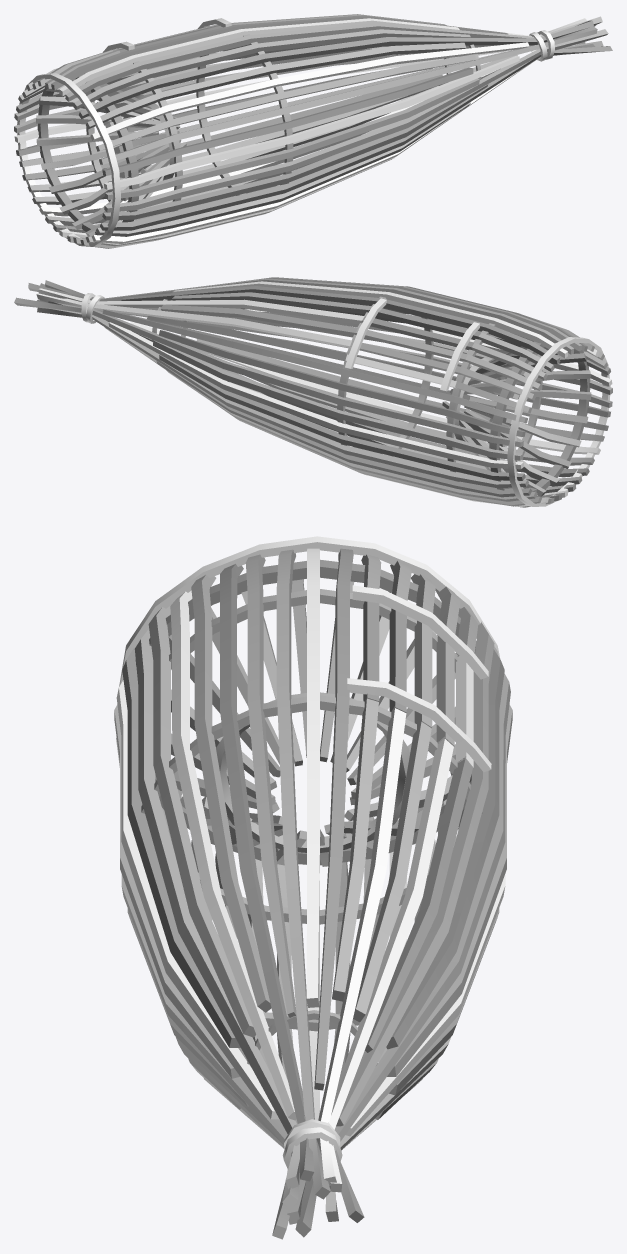
File: PT_Trap_04.fbx
The picture shows the model from 3 angles, top to bottom: view 1: azimuth 30°, elevation 25°; view 2: azimuth 150°, elevation 25°; view 3: azimuth 270°, elevation 25°; orthographic projection. The views are drawn at different scales.
Visible parts, largest first — view 1: PT_Trap_04_body, PT_Trap_04_door; view 2: PT_Trap_04_body, PT_Trap_04_door; view 3: PT_Trap_04_body, PT_Trap_04_door.
Part boxes in pixels (left/top/right/bottom): PT_Trap_04_body: left=14, top=14, right=612, bottom=248; PT_Trap_04_door: left=103, top=18, right=231, bottom=52; PT_Trap_04_body: left=14, top=277, right=612, bottom=507; PT_Trap_04_door: left=345, top=298, right=481, bottom=391; PT_Trap_04_body: left=114, top=536, right=512, bottom=1239; PT_Trap_04_door: left=347, top=585, right=491, bottom=771.
Bounding box in the file's own units: 201 × 62.95 × 64.14.
Materials: 1 (1 with a texture image).
